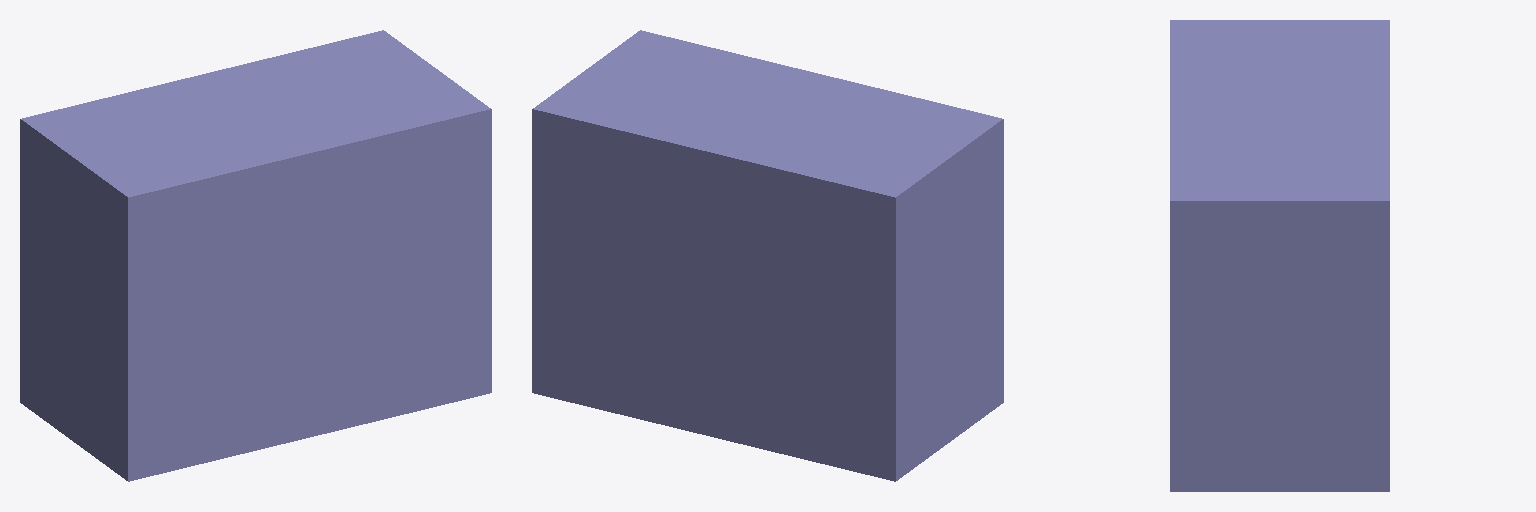
URDF robot description (box.urdf):
<?xml version="1.0" ?>
<robot name="box.urdf">
  <link name="baseLink">
    <contact>
      <lateral_friction value="1.0"/>
      <rolling_friction value="0.0001"/>
      <inertia_scaling value="3.0"/>
    </contact>
    <inertial>
      <origin rpy="0 0 0" xyz="0 0 0"/>
       <mass value="0.1"/>
       <inertia ixx="1" ixy="0" ixz="0" iyy="1" iyz="0" izz="1"/>
    </inertial>
    <visual>
      <origin rpy="0 0 0" xyz="0 0 0"/>
      <geometry>
        <!-- <box size="0.535 0.275 0.4"/> -->
        <mesh filename="box/box.obj" scale="0.535 0.275 0.4"/>
      </geometry>
      <material name="white">
        <color rgba="0.6 0.6 0.8 1"/>
      </material>
    </visual>
    <collision>
      <origin rpy="0 0 0" xyz="0 0 0"/>
      <geometry>
        <mesh filename="box/box.obj" scale="0.535 0.275 0.4"/>
	 	    <!-- <box size="0.535 0.275 0.4"/> -->
      </geometry>
    </collision>
  </link>
</robot>

--- Render facts (derived) ---
3 views of the same robot in one strip: view 1: azimuth 30°, elevation 25°; view 2: azimuth 150°, elevation 25°; view 3: azimuth 270°, elevation 25° (orthographic).
Robot: box.urdf — 1 links, 0 joints (none); root link baseLink; default pose: all joints at 0.
Visible links, largest first — view 1: baseLink; view 2: baseLink; view 3: baseLink.
Link boxes in pixels (<box>): baseLink: <box>20,30,491,481</box>; baseLink: <box>532,30,1003,481</box>; baseLink: <box>1170,20,1389,491</box>.
Bounding box of the posed robot: 0.535 × 0.275 × 0.4 m (x, y, z).
1 mesh visuals loaded from 1 distinct referenced files (1 OBJ).
